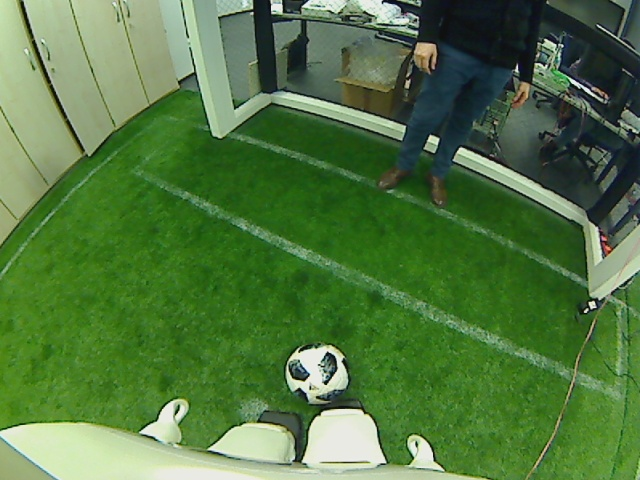ball: (283, 340, 350, 404)
